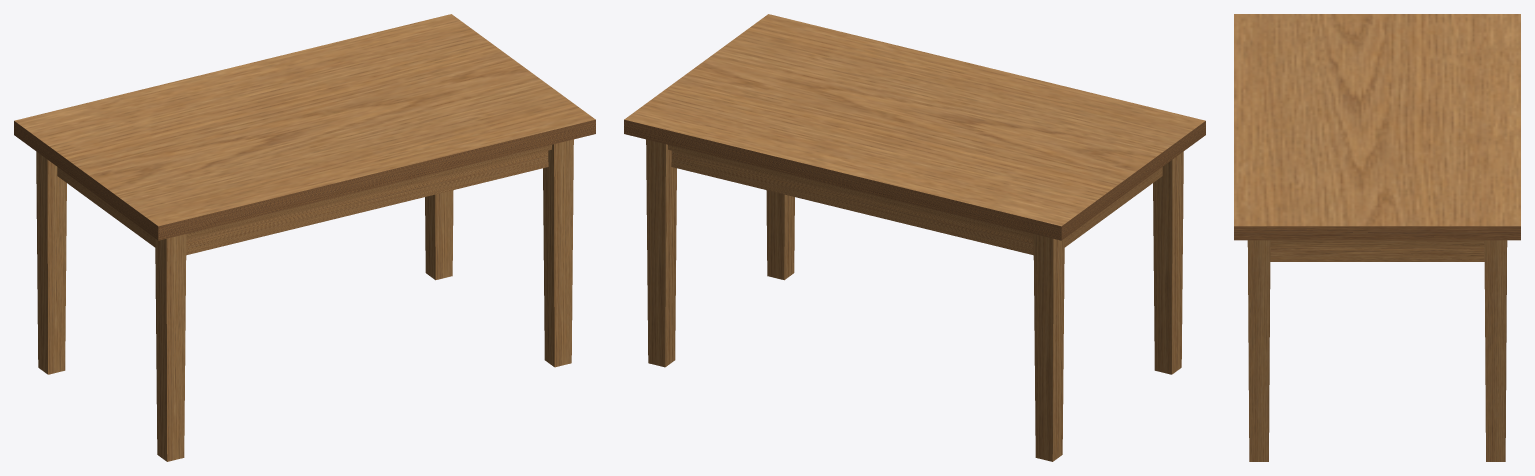
File: table.glb
The picture shows the model from 3 angles, left to right: view 1: azimuth 30°, elevation 25°; view 2: azimuth 150°, elevation 25°; view 3: azimuth 270°, elevation 25°; orthographic projection.
Visible parts, largest first — view 1: core_table; view 2: core_table; view 3: core_table.
Boxes of the visible parts, <box> form: core_table: <box>14,14,595,461</box>; core_table: <box>624,14,1205,461</box>; core_table: <box>1234,14,1520,461</box>.
Bounding box in the file's own units: 1.4 × 0.75 × 0.8.
1 material, 1 textured.
